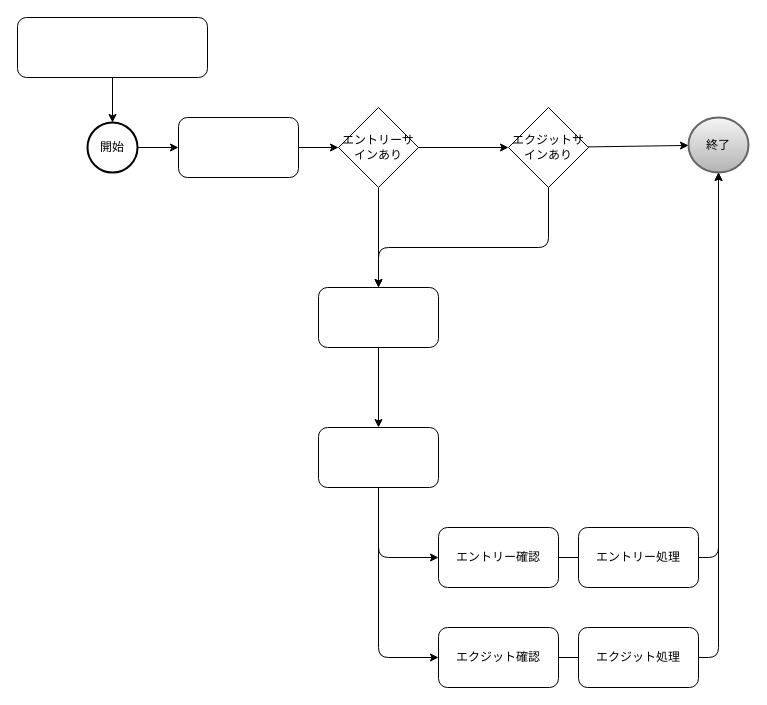
This 767x705 diagram has some shape labels left out. The centre of each missing label's shape, as x and y in pixels:
RecieveMail: pixel 112 47
メール確認: pixel 238 147
通知一覧画面: pixel 378 317
通知詳細確認: pixel 378 457
